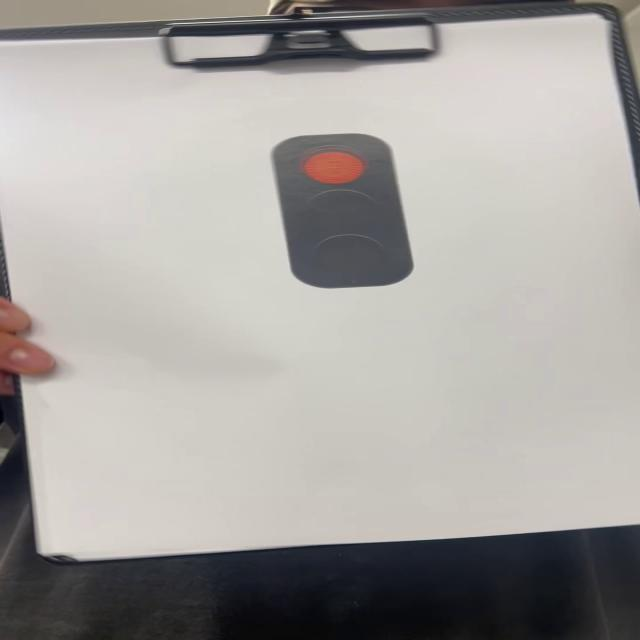red: (266, 134, 419, 290)
